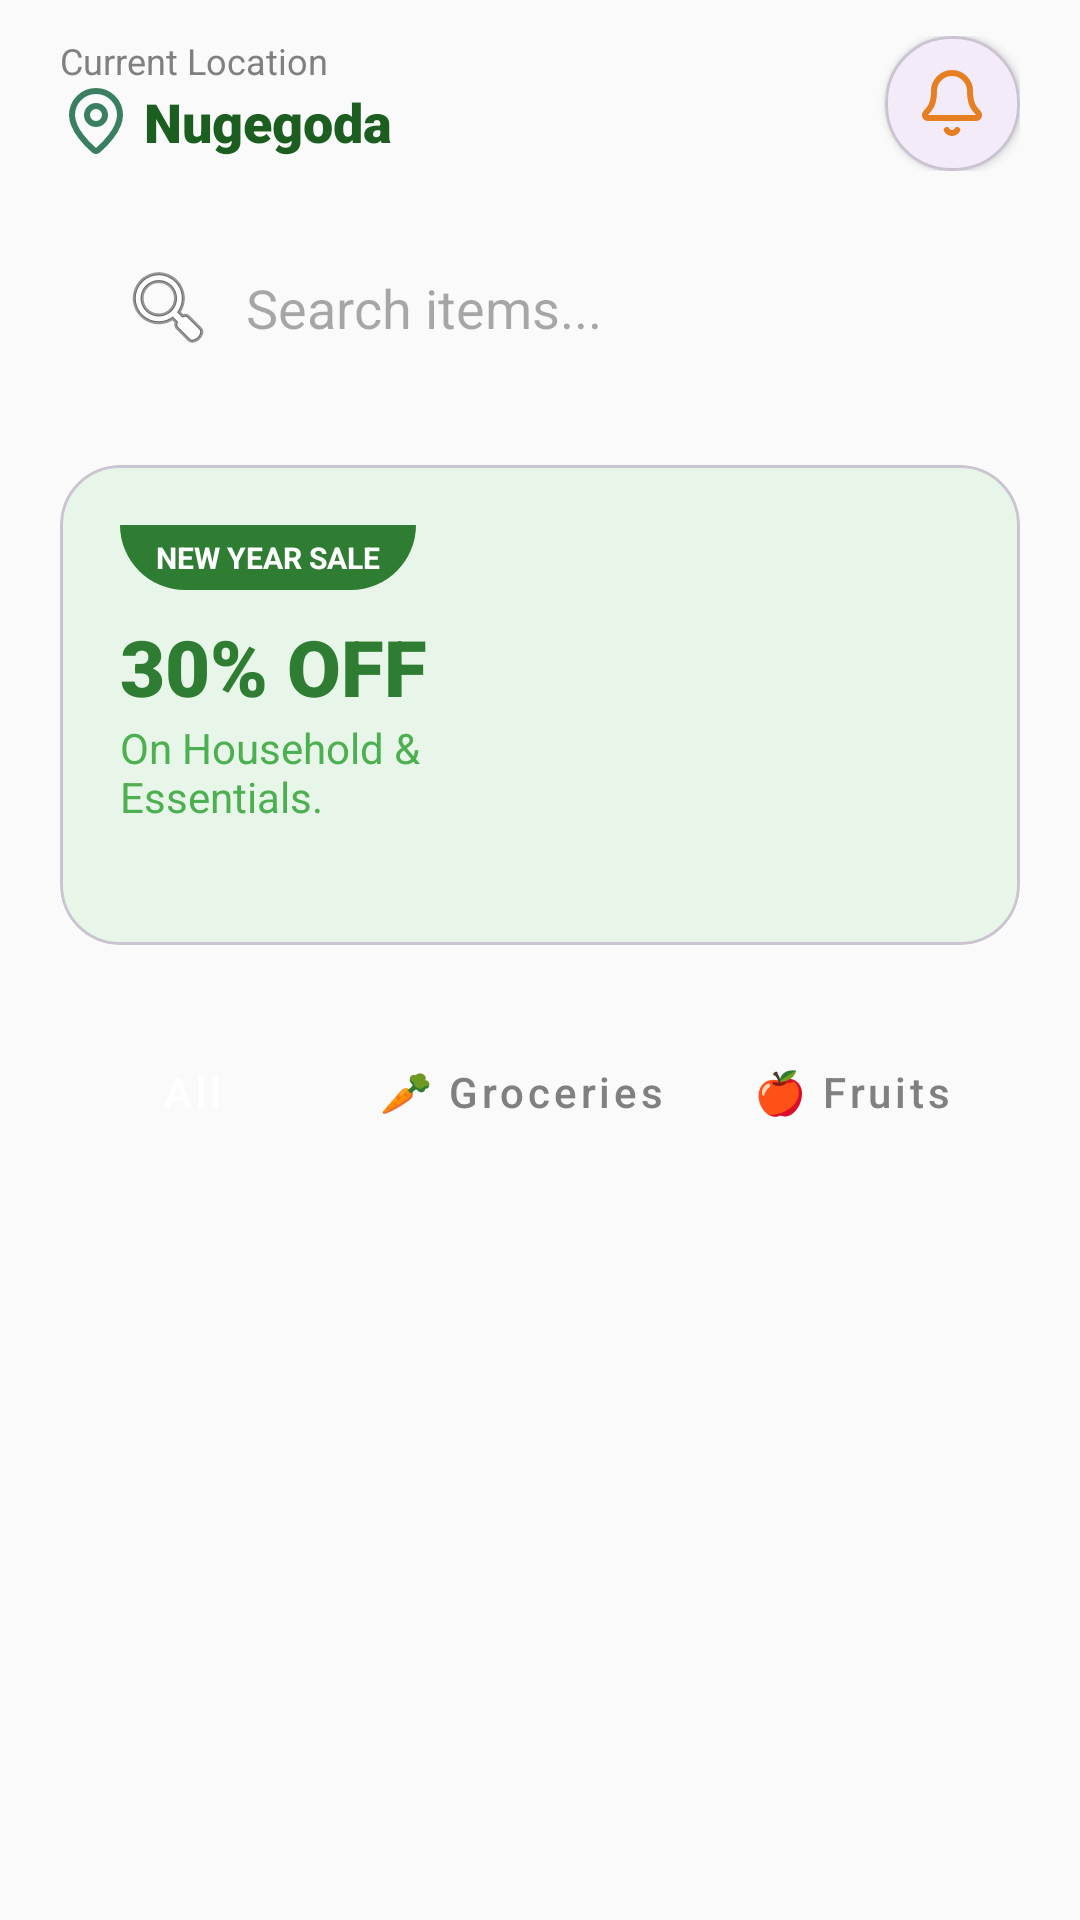

Screen size 1080px×1920px. Icon name, then its center in pixels as (x=x, y=y):
bell: (x=952, y=103)
